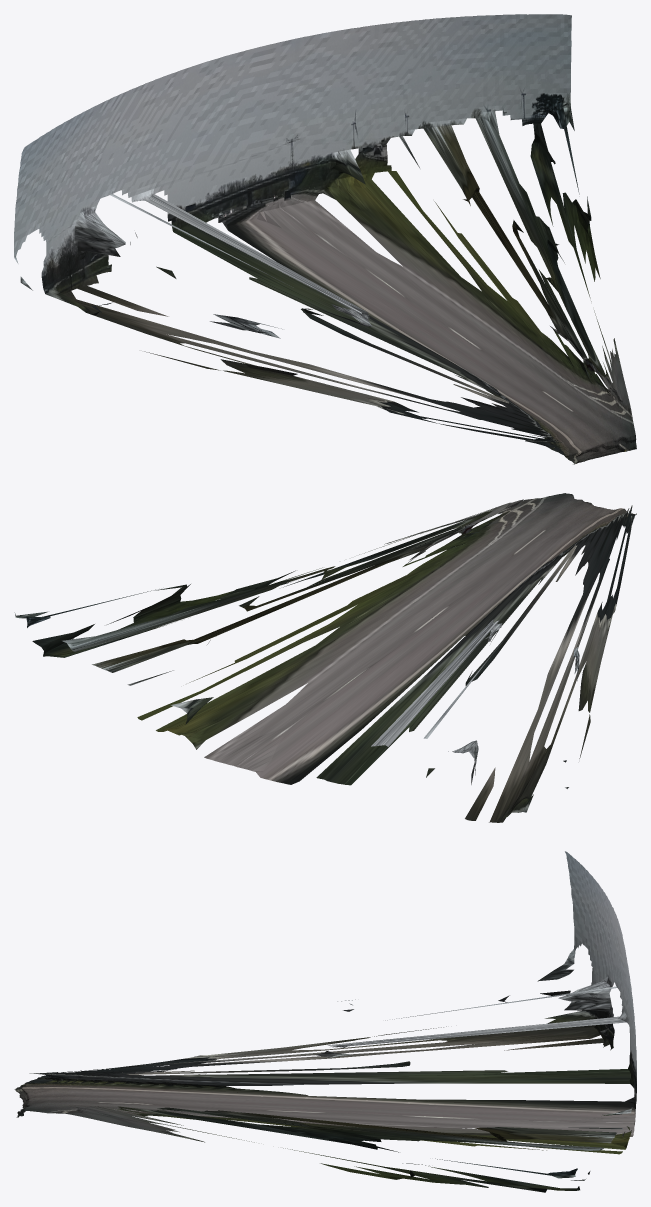
3 views of the same model, one above another, from view 1: azimuth 30°, elevation 25°; view 2: azimuth 150°, elevation 25°; view 3: azimuth 270°, elevation 25° (orthographic). The views are drawn at different scales.
Visible parts, largest first — view 1: defaultobject; view 2: defaultobject; view 3: defaultobject.
Boxes of the visible parts, x1,y1,x2,y2 form: defaultobject: [14, 14, 636, 464]; defaultobject: [14, 493, 636, 822]; defaultobject: [14, 851, 636, 1192].
Size of the model in its own units: 41.11 by 13.34 by 44.69.
1 material, 1 textured.
